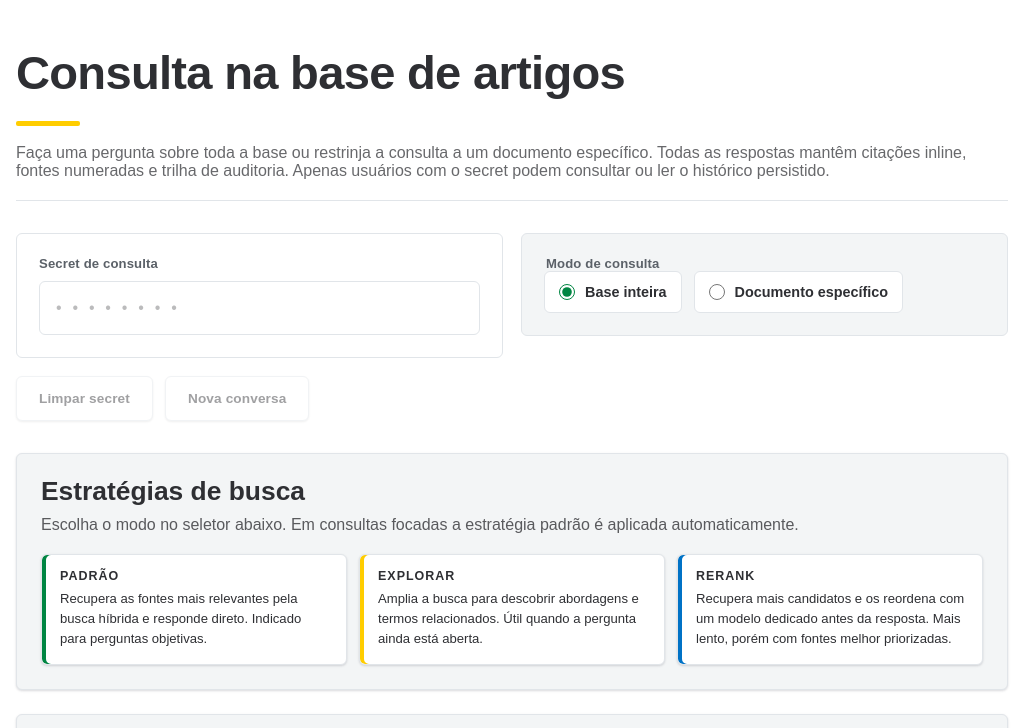
Test: /query page › keeps the streamed user message and shows a safe error when the SSE turn fails
Type "query-secret-value" into the password field labelled "Secret de consulta".
click(260, 308); type("query-secret-value")  # box [39,281,480,335]
(page scrolled)
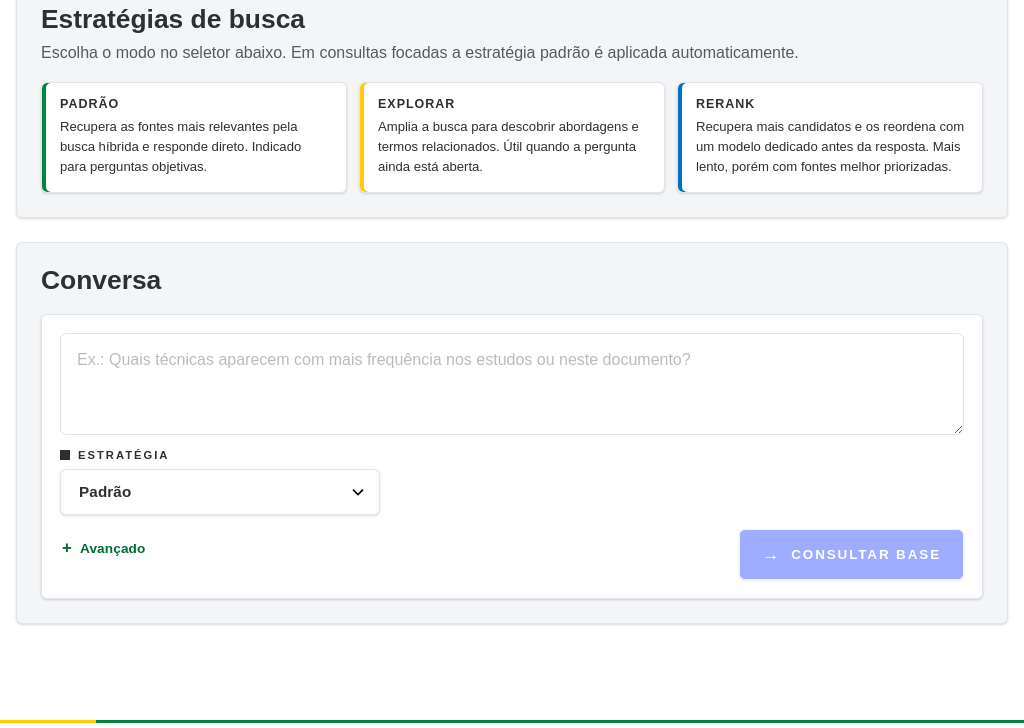
Replace the text in the text box named "pergunta" with "Pergunta com falha" at x=512, y=384, box [60,333,964,435]
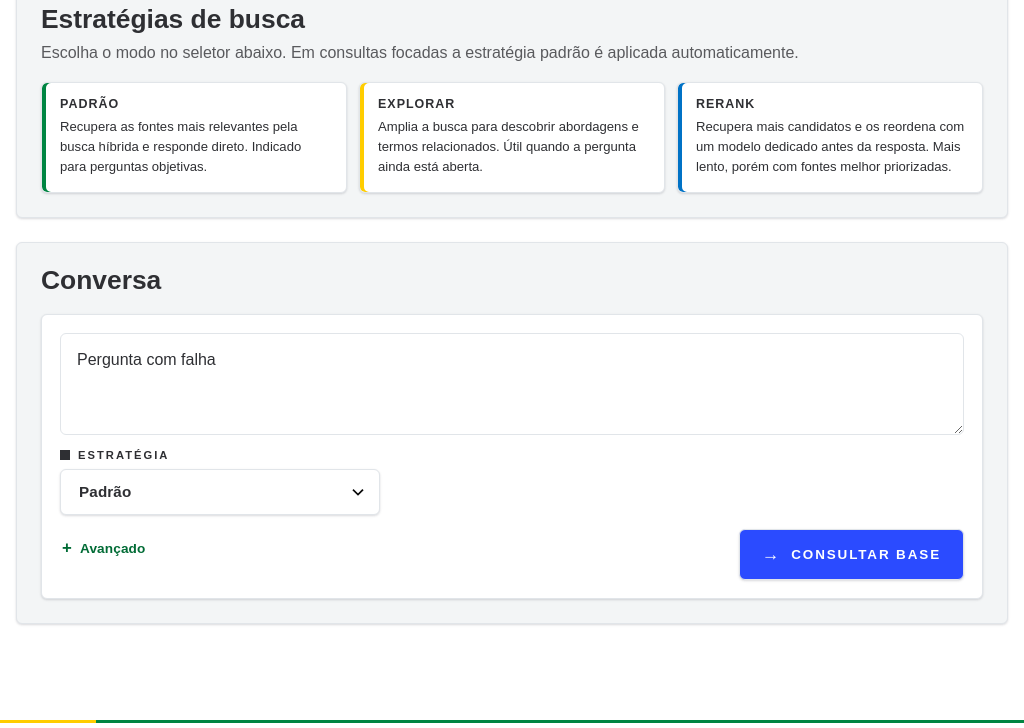
Click the button "Consultar base".
click(851, 555)  # box [739,529,964,580]
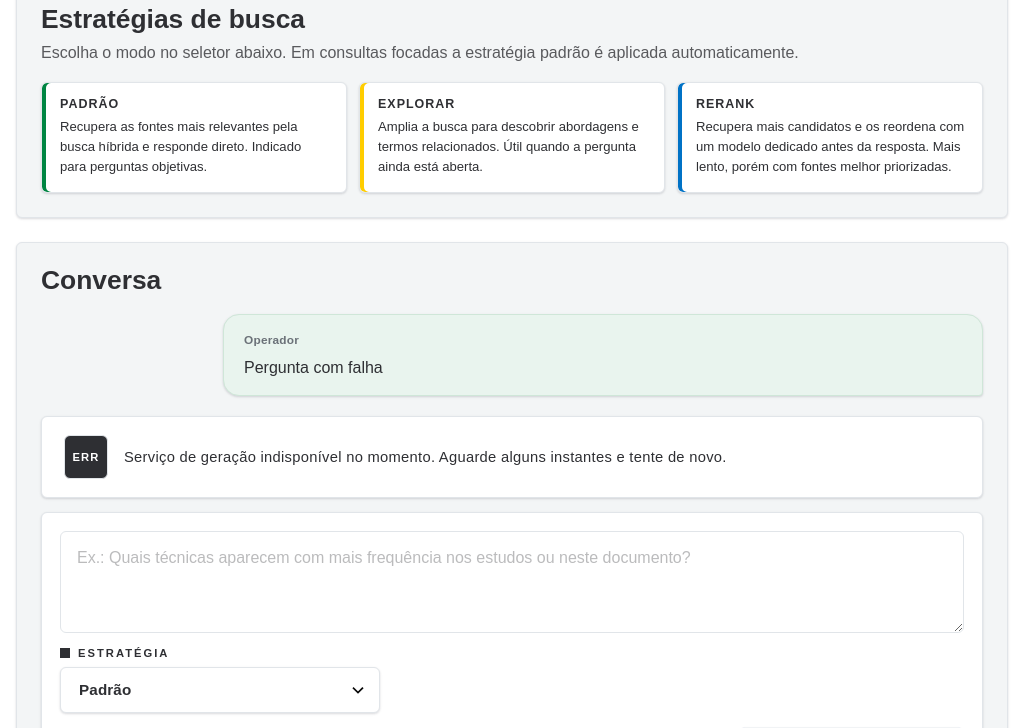
Now the text "Serviço de geração indisponível" is shown, box [124,449,727,465]
Now the text "Pergunta com falha" is shown, box [244,359,383,376]
